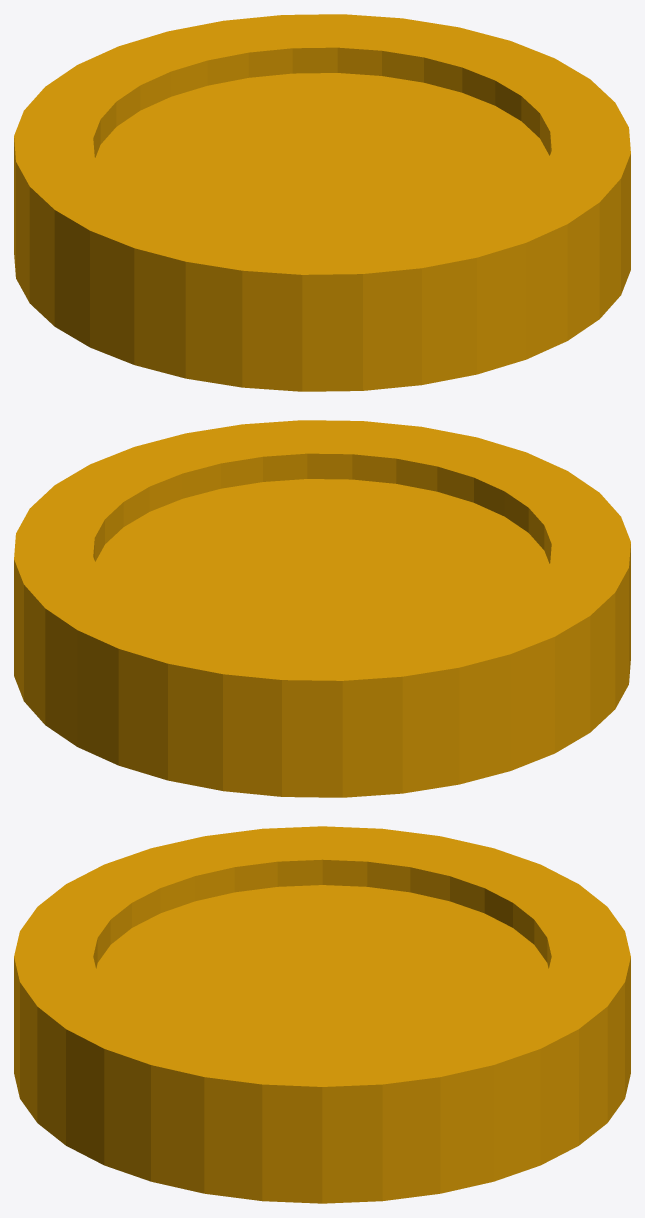
File: money.glb
3 renders of one model, top to bottom at view 1: azimuth 30°, elevation 25°; view 2: azimuth 150°, elevation 25°; view 3: azimuth 270°, elevation 25°, orthographic.
Parts seen in each view (by area): view 1: Cylinder; view 2: Cylinder; view 3: Cylinder.
Part boxes in pixels (box(x1,y1,x2,y2)): Cylinder: box(14, 14, 630, 391); Cylinder: box(14, 420, 630, 797); Cylinder: box(14, 826, 630, 1203).
Size of the model in its own units: 2 by 0.4172 by 2.
